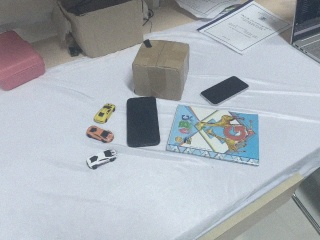book: (161, 104, 270, 167)
box: (53, 1, 146, 59), (131, 37, 190, 100)
phone: (125, 96, 160, 149), (200, 74, 249, 105)
toy_car: (86, 149, 117, 169), (86, 125, 114, 143), (93, 103, 116, 124)
